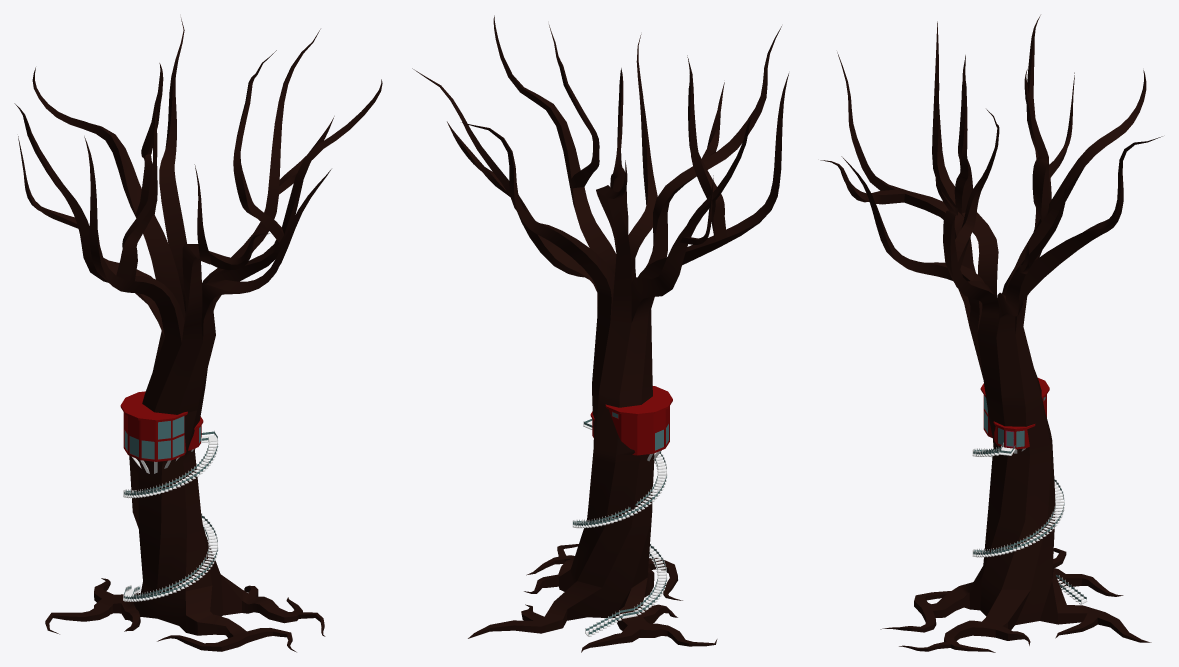
3 views of the same model, side by side, from view 1: azimuth 30°, elevation 25°; view 2: azimuth 150°, elevation 25°; view 3: azimuth 270°, elevation 25° (orthographic). The views are drawn at different scales.
Parts seen in each view (by area): view 1: tree1, house_main house_main_all, staircase steps, staircase fences, house_main_all roof1, poles staircase; view 2: tree1, house_main house_main_all, staircase steps, staircase fences, house_main_all roof1, poles staircase; view 3: tree1, staircase steps, staircase fences, house_kitchen_all house_kitchen, poles staircase.
Part boxes in pixels (x1=…): tree1: x1=14, y1=18, x2=382, y2=652; house_main house_main_all: x1=123, y1=412, x2=186, y2=461; staircase steps: x1=123, y1=442, x2=218, y2=601; staircase fences: x1=124, y1=438, x2=217, y2=599; house_main_all roof1: x1=120, y1=391, x2=187, y2=422; poles staircase: x1=123, y1=440, x2=217, y2=599; tree1: x1=412, y1=15, x2=788, y2=652; house_main house_main_all: x1=609, y1=406, x2=669, y2=455; staircase steps: x1=572, y1=453, x2=667, y2=636; staircase fences: x1=573, y1=452, x2=666, y2=634; house_main_all roof1: x1=605, y1=386, x2=672, y2=415; poles staircase: x1=572, y1=451, x2=666, y2=635; tree1: x1=820, y1=15, x2=1162, y2=652; staircase steps: x1=972, y1=453, x2=1087, y2=604; staircase fences: x1=973, y1=447, x2=1086, y2=601; house_kitchen_all house_kitchen: x1=994, y1=426, x2=1029, y2=449; poles staircase: x1=972, y1=447, x2=1086, y2=603.
Bounding box in the file's own units: 160 × 262 × 153.
